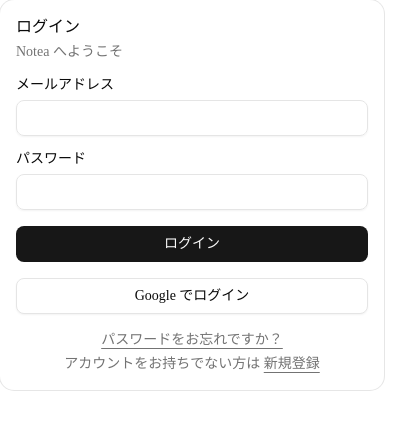
Test: LoginForm › 失敗時はエラーを表示し遷移しない
This screenshot has width=402, height=444.
Type "a@example.com" into the field labelled "メールアドレス" at {"x": 192, "y": 118}, box [16,100,368,136]
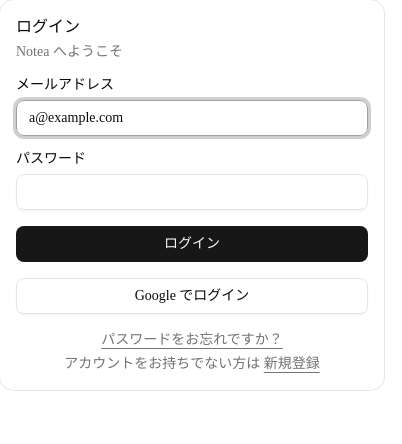
Type "abcde123" into the password field labelled "パスワード" at {"x": 192, "y": 192}, box [16,174,368,210]
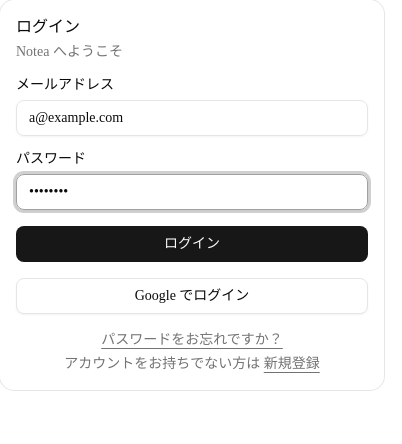
Click the button "ログイン" at {"x": 192, "y": 244}, box [16,226,368,262]
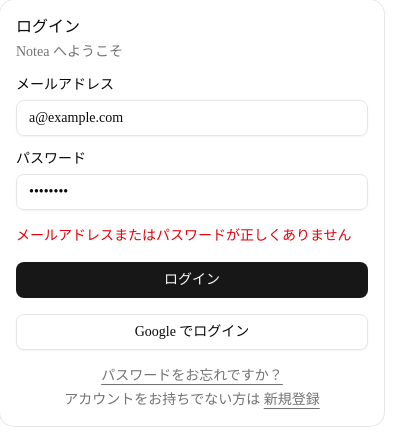
Now the message shows "正しくありません", box [16,228,352,243]
